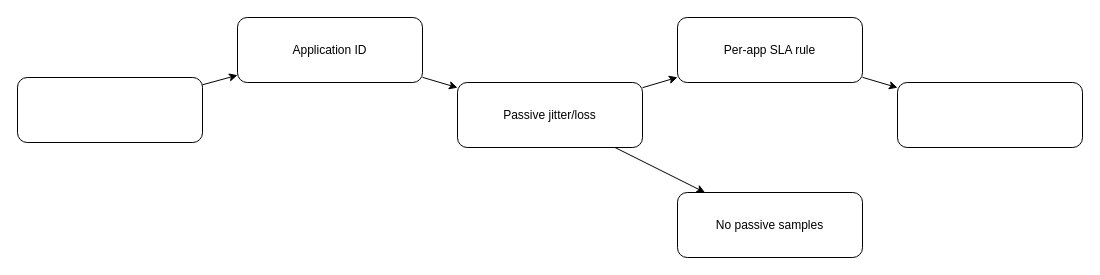
The diagram is 1100 pixels wide and 275 high, and some of its shapes have lost their labels. The centre of each missing label's shape, as x and y in pixels:
"Live app flow" goes at (x=109, y=109).
"Selected WAN member" goes at (x=989, y=115).
